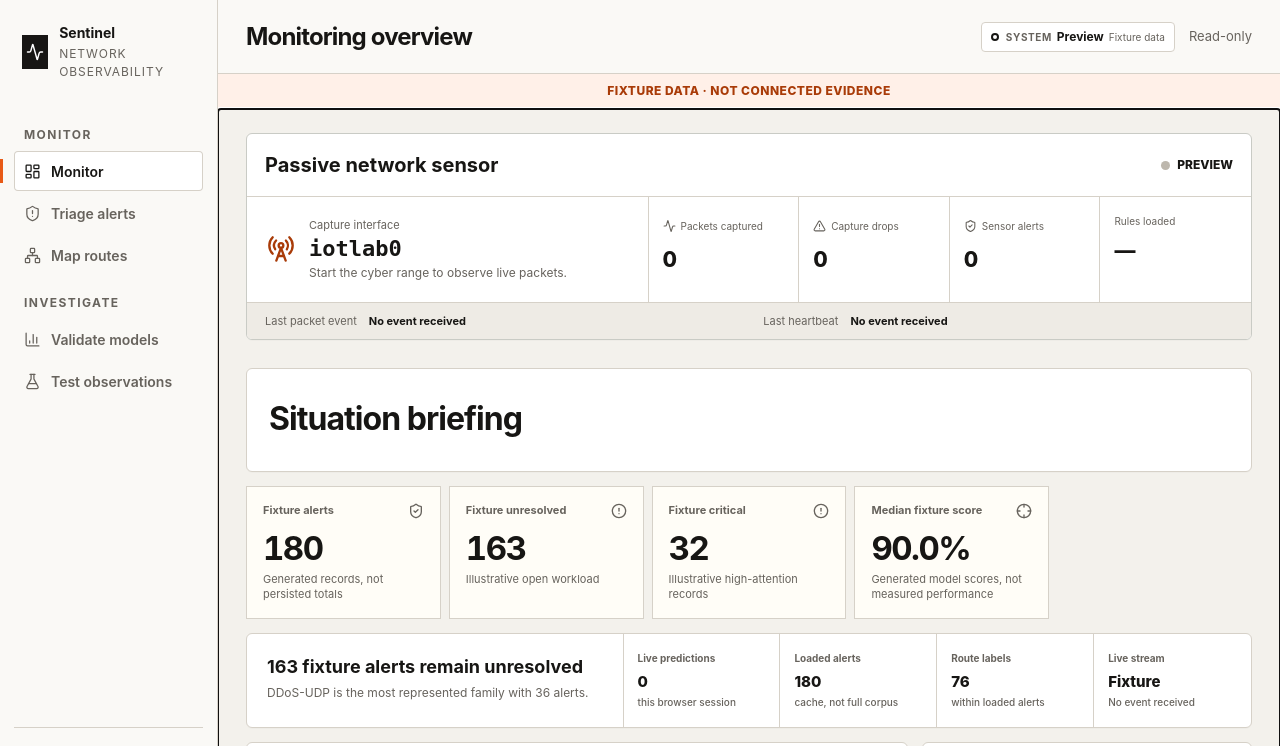
Test: dashboard › keeps every primary destination directly navigable and marks the current route
Click the link "Validate models": (91, 339) [24,330,159,348]
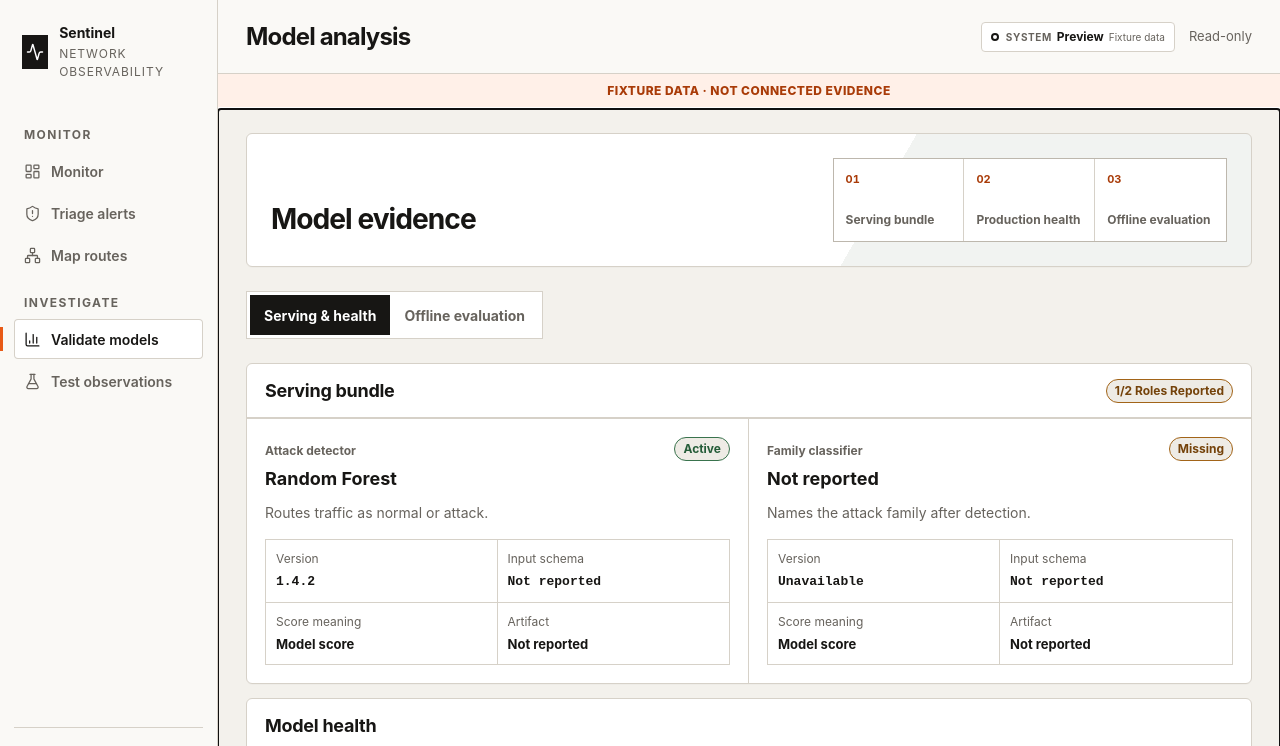
Result: the heading "Model analysis" is shown at [246,18,410,54]
